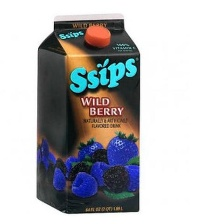carton: (33, 10, 146, 218)
